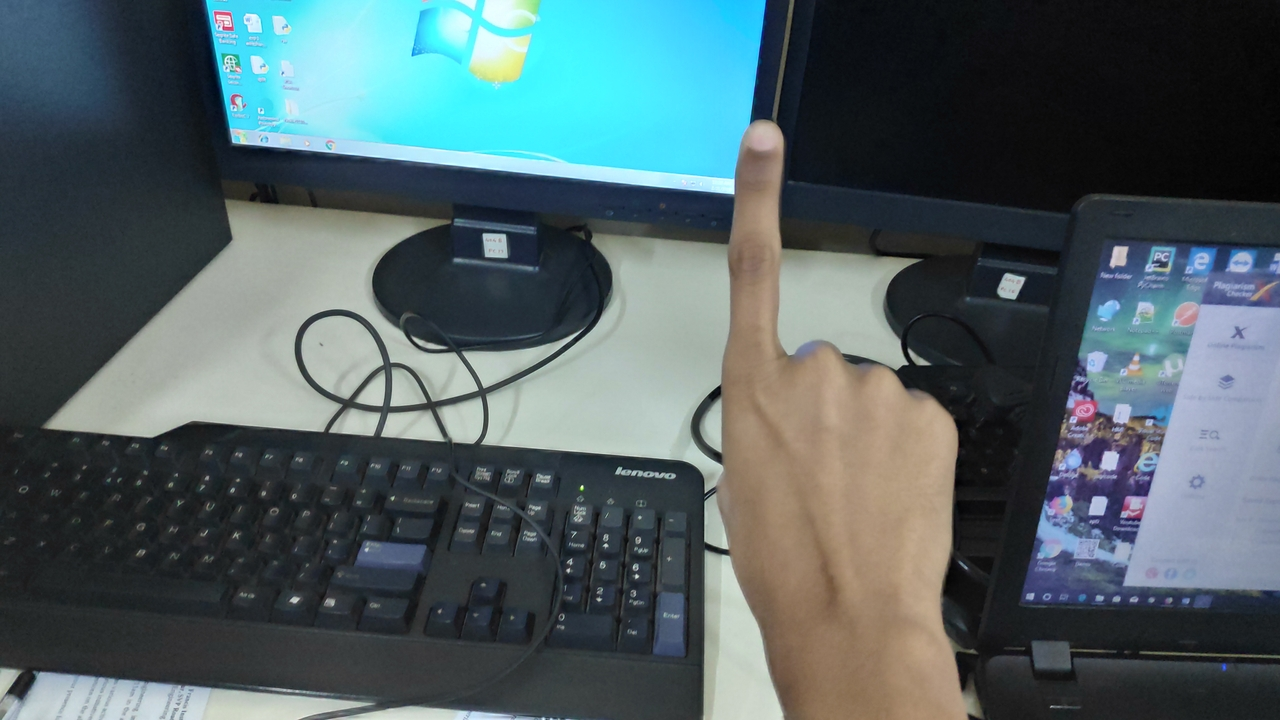fingertip: (730, 110, 792, 166)
